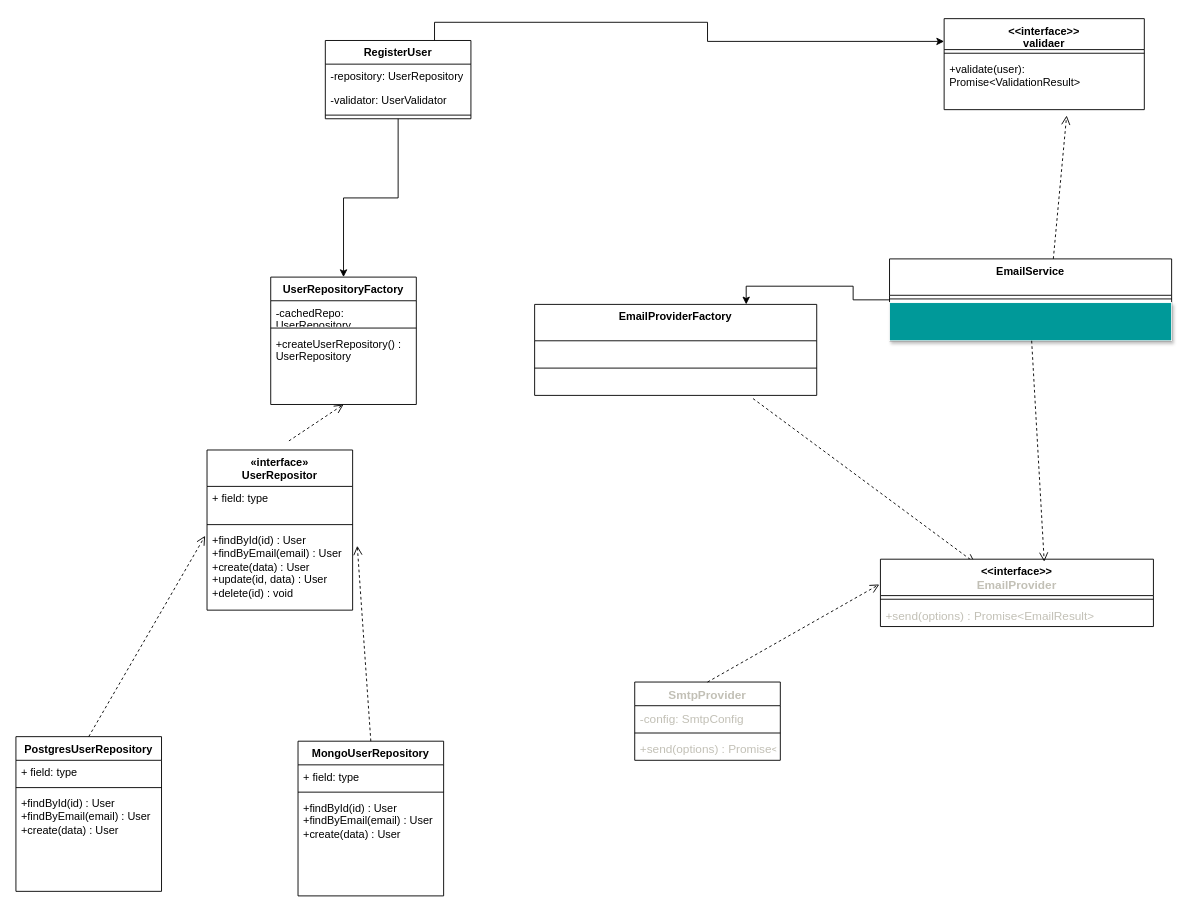
This 1193x915 diagram has some shape labels left out. Each missing label, with the centre of its shape:
+ validate(user: User): Promise<ValidationResult>: the point at 1031,322
+createEmailProvider() : EmailProvider: the point at 675,383
-cachedProvider: EmailProvider: the point at 675,352
